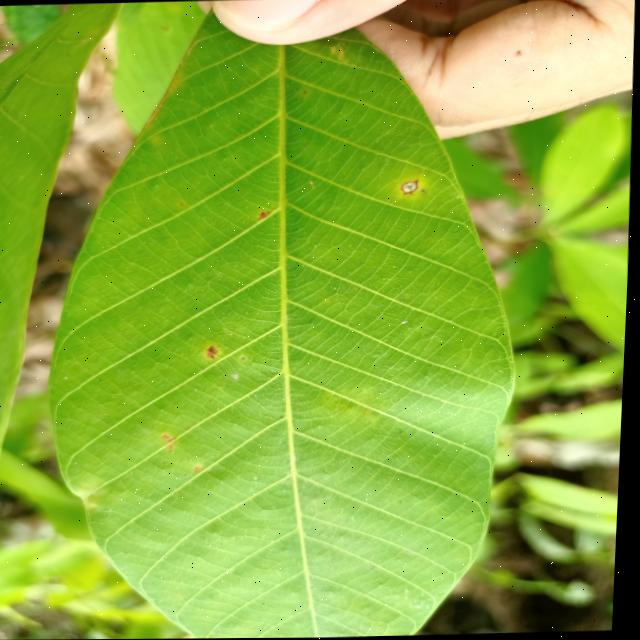Colletotrichum: (402, 181, 421, 195)
